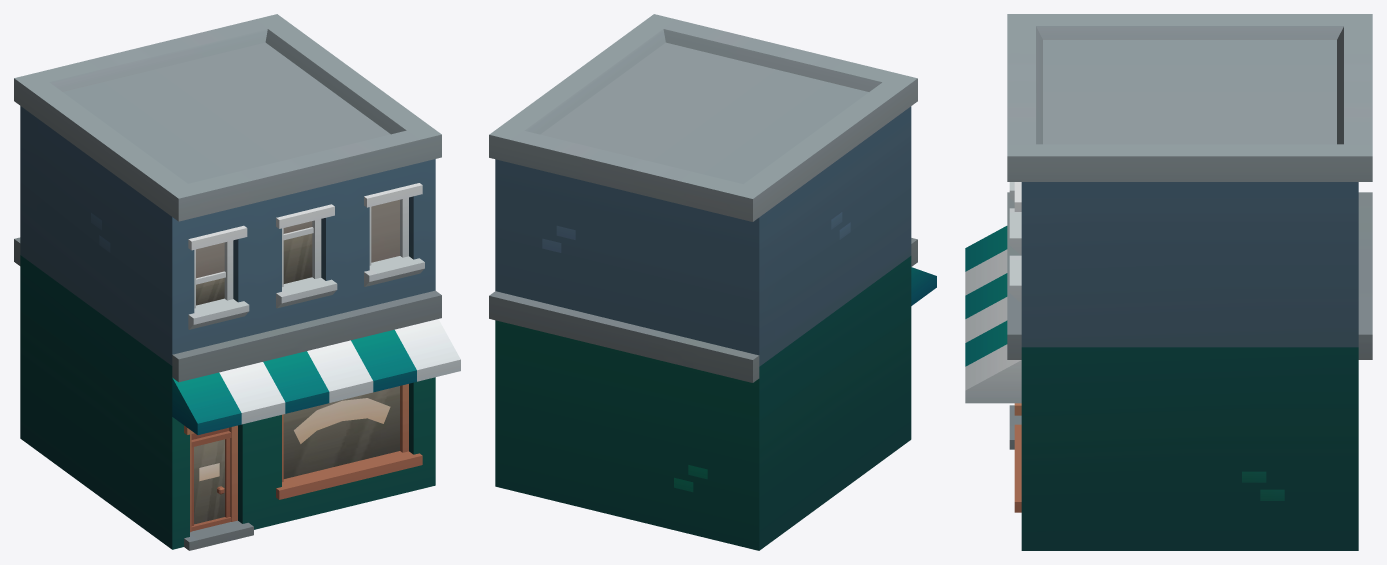
The model's file is building_A_withoutBase.glb.
3 views of the same model, side by side, from view 1: azimuth 30°, elevation 25°; view 2: azimuth 150°, elevation 25°; view 3: azimuth 270°, elevation 25° (orthographic). The views are drawn at different scales.
Parts seen in each view (by area): view 1: building_A_withoutBase; view 2: building_A_withoutBase; view 3: building_A_withoutBase.
Boxes of the visible parts, x1=… form: building_A_withoutBase: x1=14, y1=14, x2=460, y2=550; building_A_withoutBase: x1=489, y1=14, x2=936, y2=550; building_A_withoutBase: x1=965, y1=14, x2=1372, y2=550.
Bounding box in the file's own units: 1.21 × 1.55 × 1.45.
Materials: 1 (1 with a texture image).
